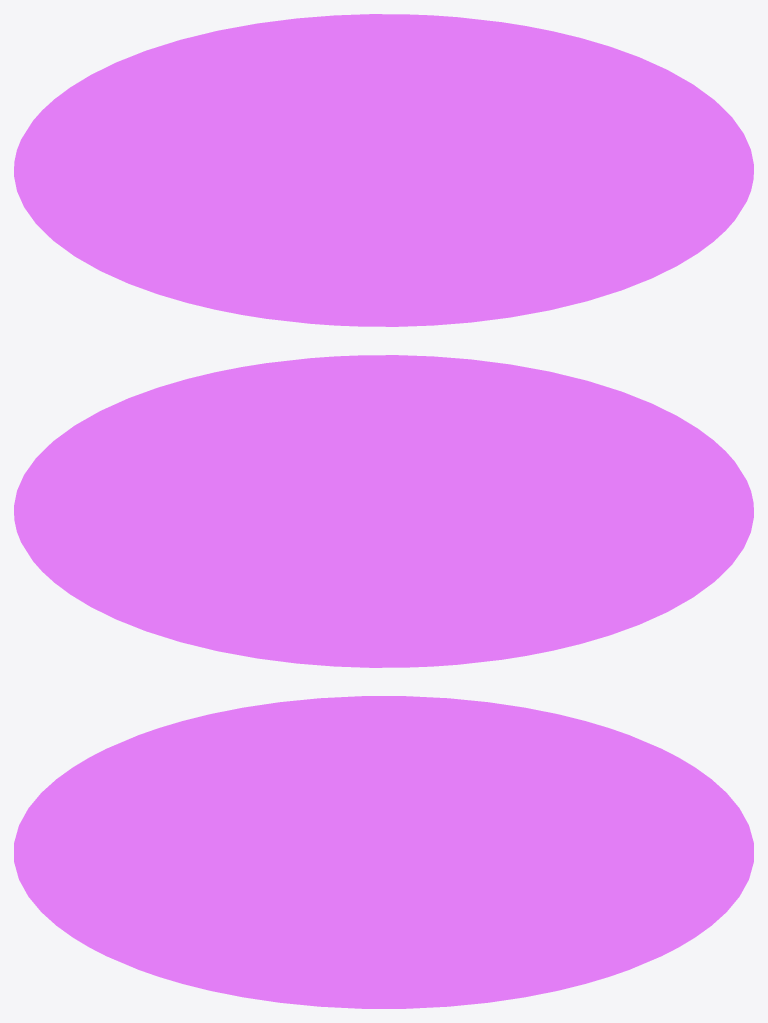
Rendered from AreaLigth.gltf.
3 views of the same model, one above another, from view 1: azimuth 30°, elevation 25°; view 2: azimuth 150°, elevation 25°; view 3: azimuth 270°, elevation 25° (orthographic).
Parts seen in each view (by area): view 1: Plane; view 2: Plane; view 3: Plane.
Part boxes in pixels (x1,y1,x2,y2): Plane: (14,14,753,326); Plane: (14,355,753,667); Plane: (14,696,753,1008).
Bounding box in the file's own units: 2.26 × 0 × 2.26.
